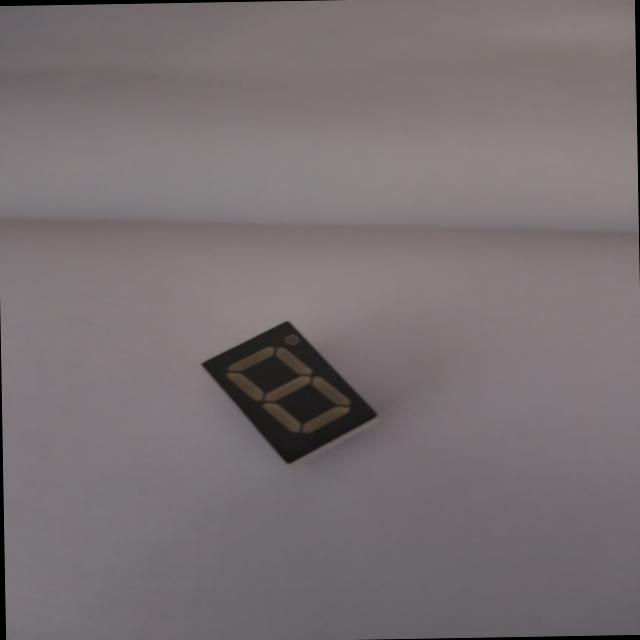sevensegment: (188, 304, 390, 474)
